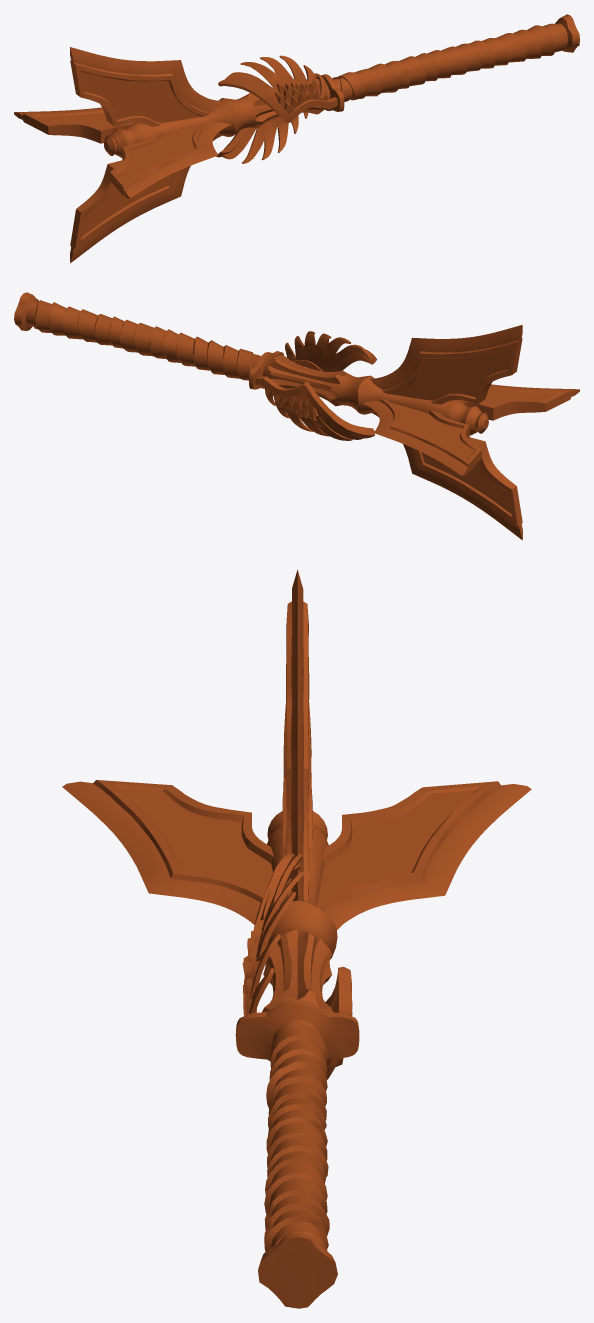
The model's file is SM_Rune_Mace_2.obj.
3 views of the same model, one above another, from view 1: azimuth 30°, elevation 25°; view 2: azimuth 150°, elevation 25°; view 3: azimuth 270°, elevation 25° (orthographic). The views are drawn at different scales.
Parts seen in each view (by area): view 1: SM_Rune_Mace_2; view 2: SM_Rune_Mace_2; view 3: SM_Rune_Mace_2.
Boxes of the visible parts, x1,y1,x2,y2 form: SM_Rune_Mace_2: [14, 14, 579, 263]; SM_Rune_Mace_2: [14, 292, 579, 540]; SM_Rune_Mace_2: [62, 569, 531, 1308].
Bounding box in the file's own units: 978 × 404 × 399.
